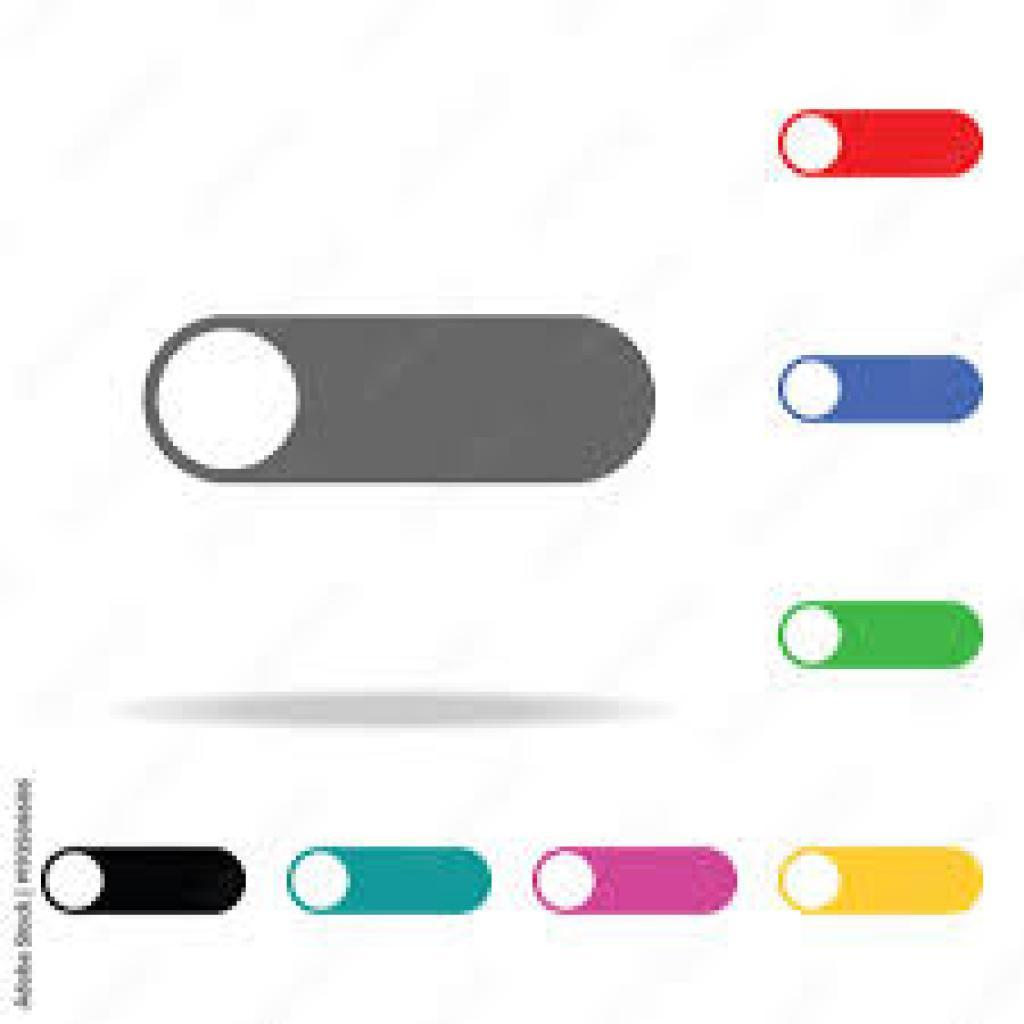switch: (143, 311, 656, 492), (534, 841, 738, 918), (780, 353, 984, 426), (41, 844, 248, 914), (780, 598, 987, 667), (779, 847, 984, 916), (779, 112, 987, 180), (285, 845, 487, 914)
